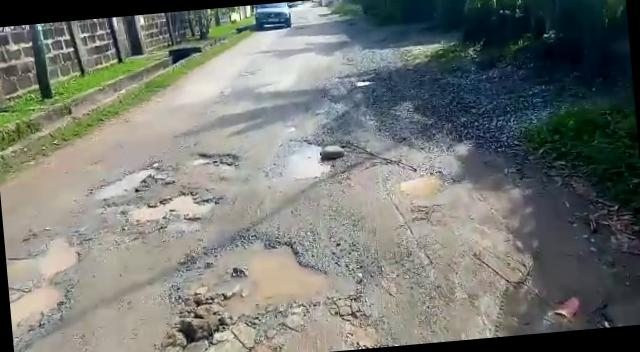pothole: (168, 230, 344, 318), (8, 276, 75, 346), (120, 188, 225, 228), (8, 233, 88, 282), (90, 159, 176, 203), (274, 139, 334, 183), (398, 170, 446, 199), (192, 147, 242, 170)
